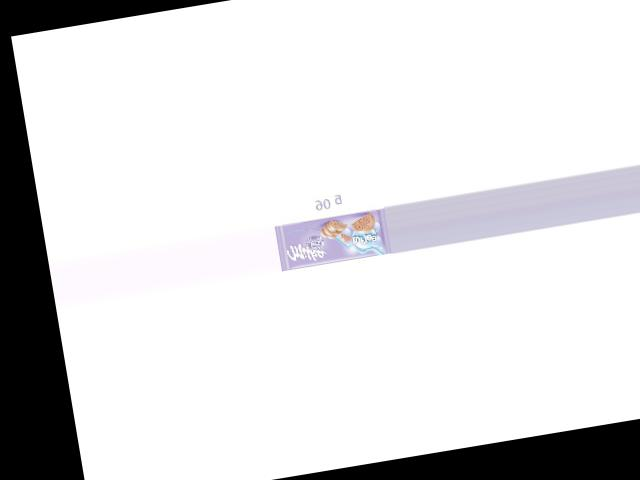chocolate: (276, 208, 392, 271)
